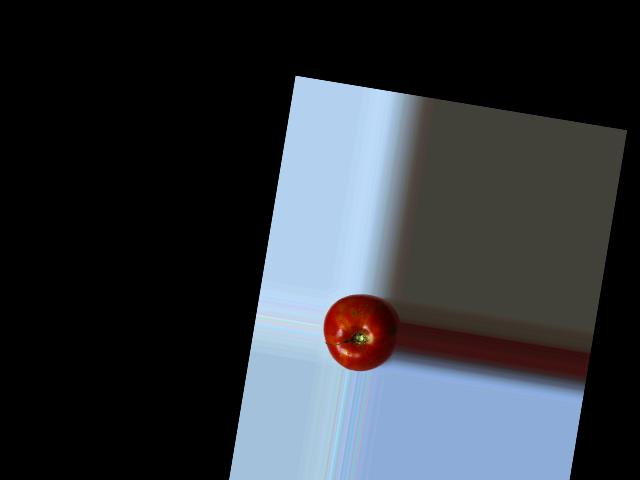tomato: (317, 288, 403, 376)
